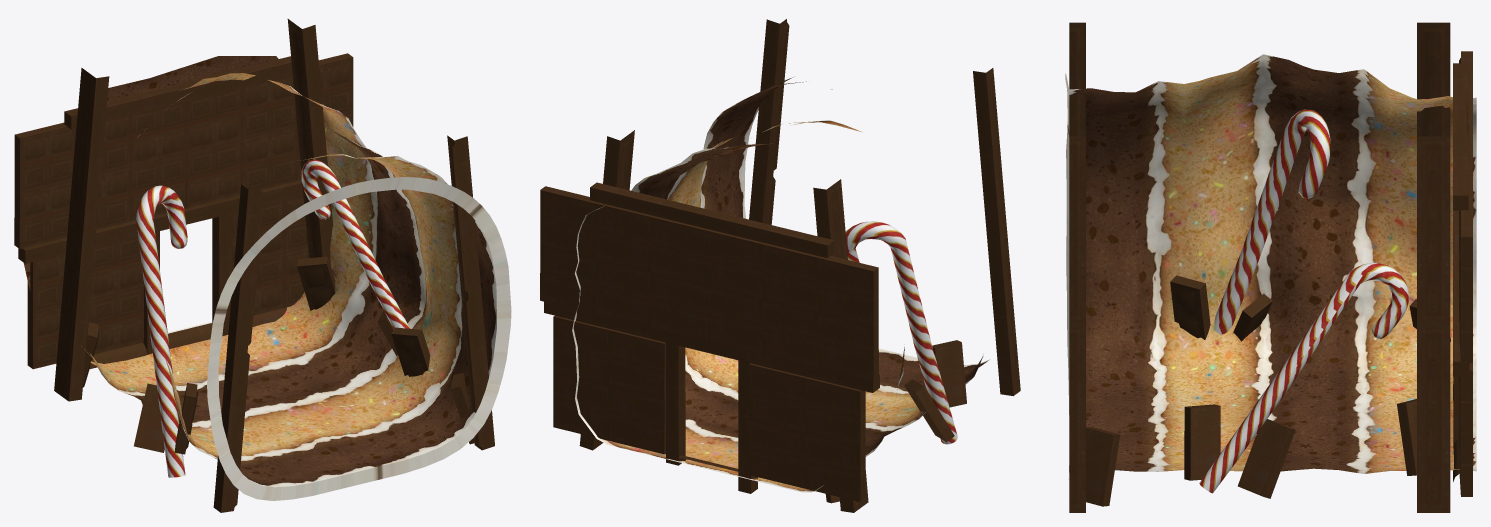
The model's file is mine_tnl_exit_xmas.glb.
3 views of the same model, side by side, from view 1: azimuth 30°, elevation 25°; view 2: azimuth 150°, elevation 25°; view 3: azimuth 270°, elevation 25° (orthographic). The views are drawn at different scales.
Visible parts, largest first — view 1: mine_tnl_exit_xmas_LOD0; view 2: mine_tnl_exit_xmas_LOD0; view 3: mine_tnl_exit_xmas_LOD0.
Boxes of the visible parts, left/top/right/bottom form: mine_tnl_exit_xmas_LOD0: left=14, top=19, right=511, bottom=512; mine_tnl_exit_xmas_LOD0: left=540, top=19, right=1020, bottom=512; mine_tnl_exit_xmas_LOD0: left=1065, top=22, right=1476, bottom=512.
Size of the model in its own units: 6.59 by 6.19 by 6.17.
Materials: 2 (2 with a texture image).
